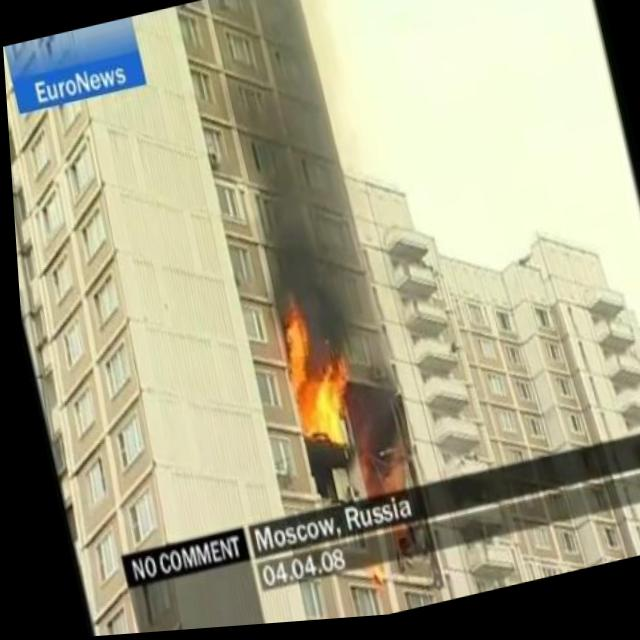fire: (266, 290, 361, 453), (366, 458, 413, 501)
